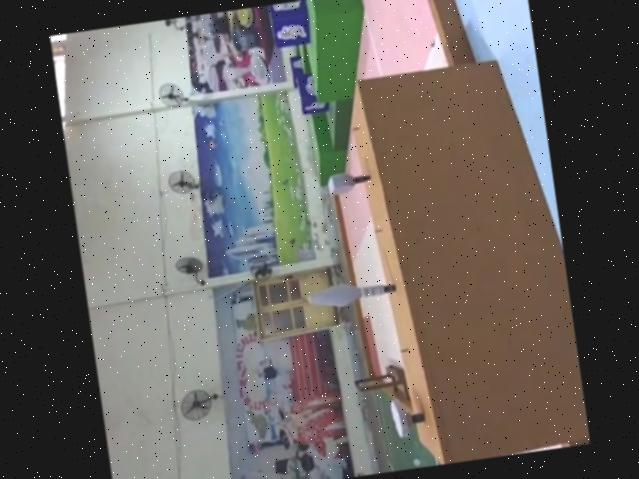Fist: (327, 169, 373, 198)
Hand: (386, 396, 425, 437)
Sph: (306, 273, 400, 310)
